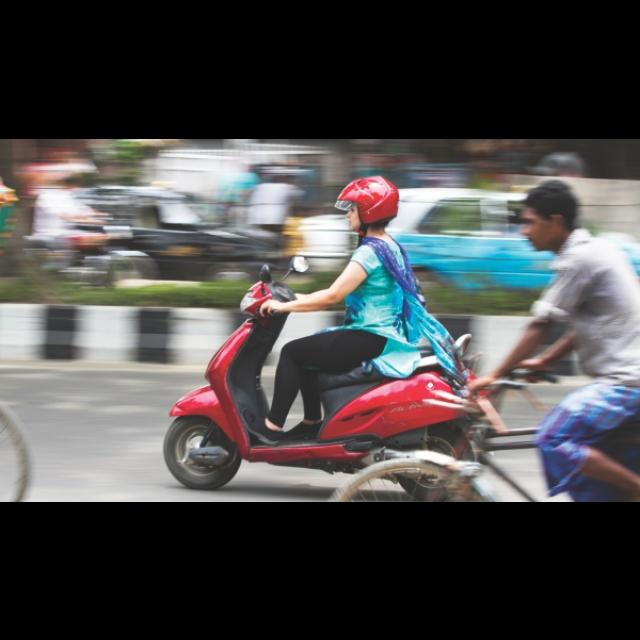With Helmet: (334, 166, 400, 234)
